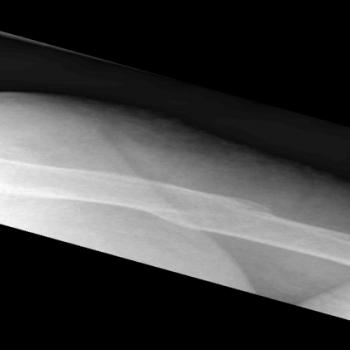Fracture: (143, 191, 283, 232)
